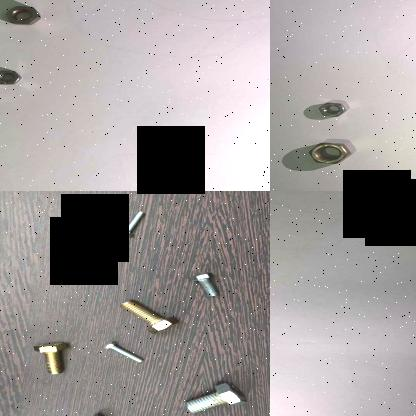Bolts: (180, 376, 253, 416), (116, 294, 182, 336), (31, 338, 76, 378), (182, 268, 226, 300), (101, 336, 149, 364), (116, 210, 152, 238)
NUTS: (300, 139, 354, 165), (312, 98, 350, 120), (3, 4, 40, 26), (0, 68, 24, 84)
